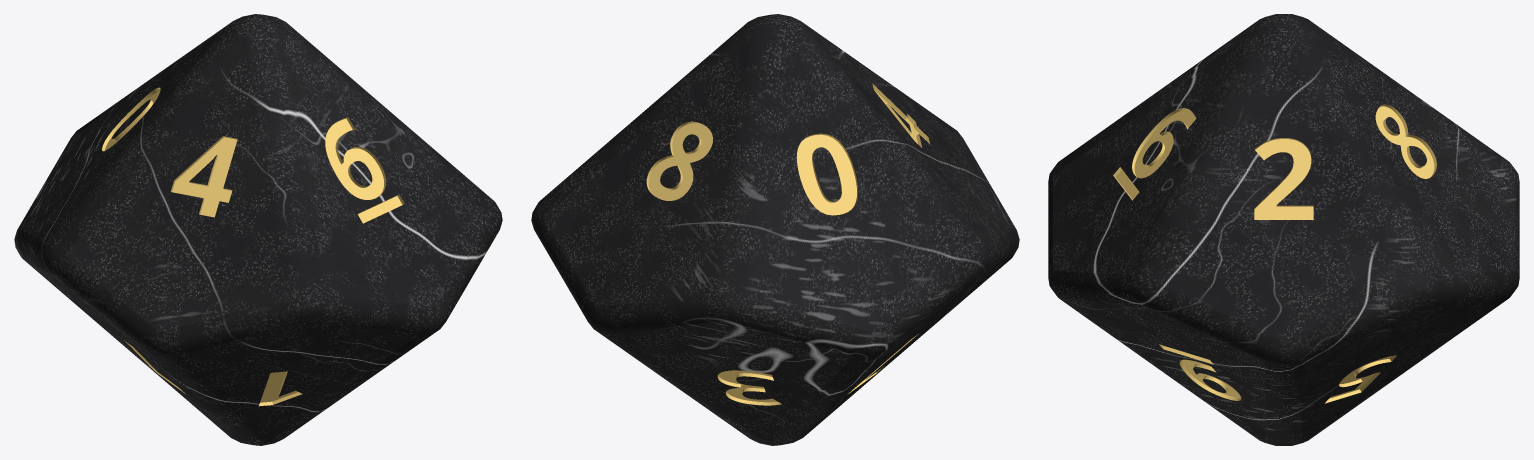
3 views of the same model, side by side, from view 1: azimuth 30°, elevation 25°; view 2: azimuth 150°, elevation 25°; view 3: azimuth 270°, elevation 25° (orthographic).
Parts seen in each view (by area): view 1: body.001; view 2: body.001; view 3: body.001.
Part boxes in pixels (<box>): body.001: <box>14,14,502,445</box>; body.001: <box>531,14,1019,445</box>; body.001: <box>1048,14,1519,445</box>.
Size of the model in its own units: 0.9493 by 0.8964 by 0.9076.
Materials: 2 (1 with a texture image).
